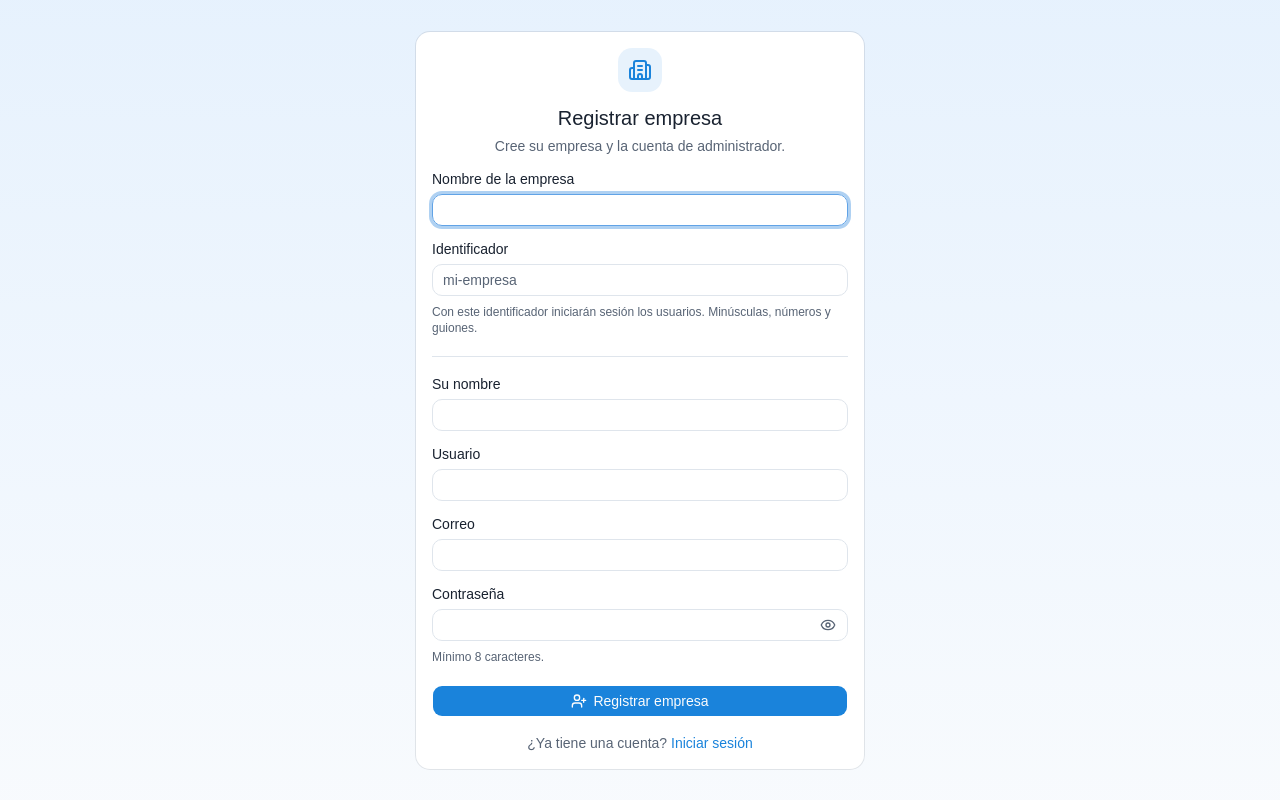
Test: RegisterCompanyPage (CU-22) › muestra el mensaje del servidor si la empresa ya existe y no inicia sesión
The width and height of the screenshot is (1280, 800).
Type "Mi Empresa Nueva" into the field labelled "Nombre de la empresa" at (640, 210), box left=432, top=194, right=848, bottom=226
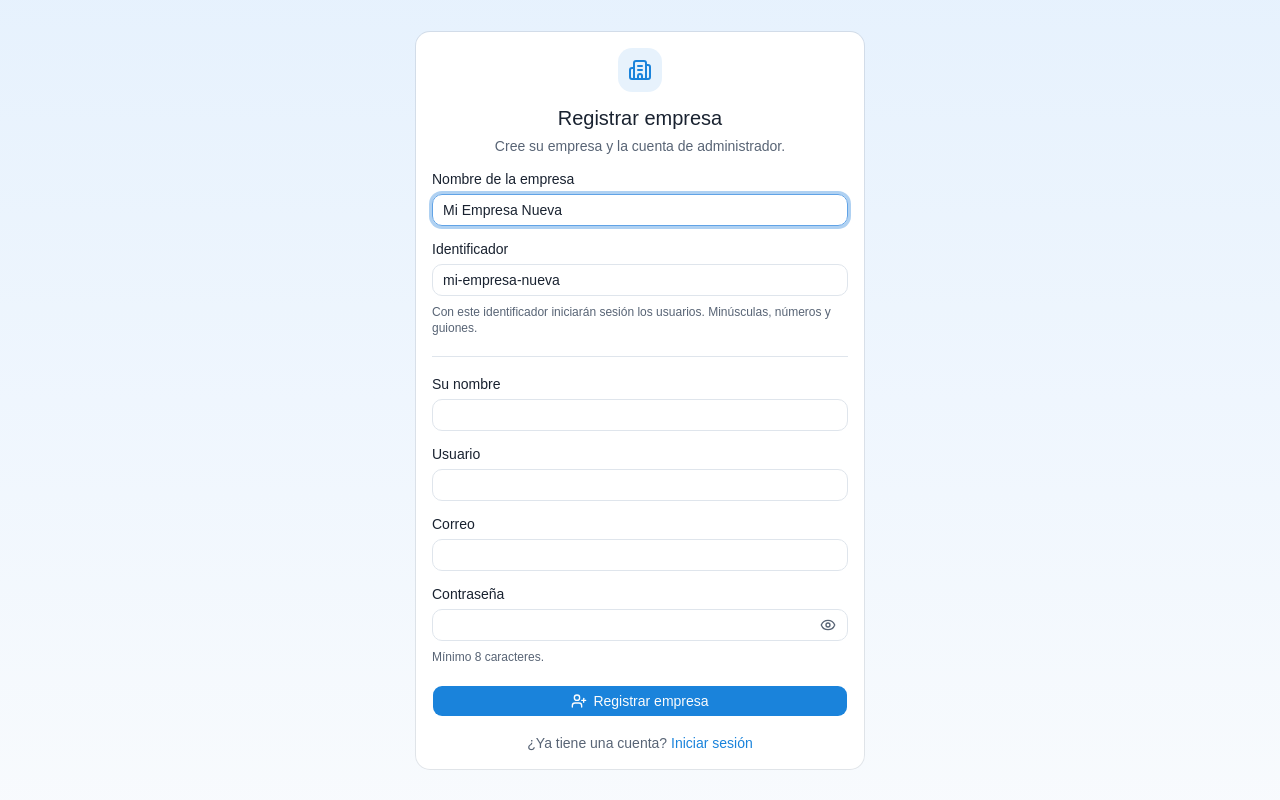
Type "jefe" into the field labelled "Usuario" at (640, 484), box left=432, top=468, right=848, bottom=500
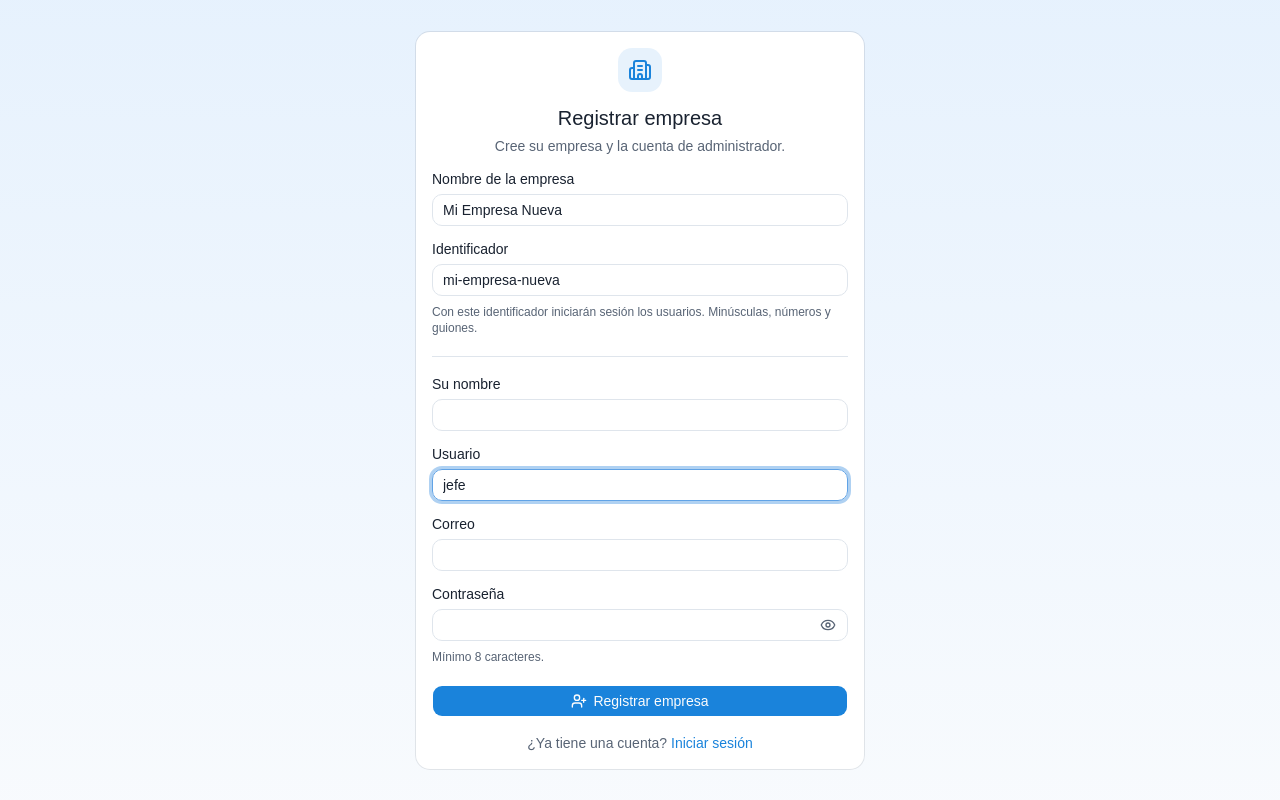
Type "jefe@nueva.test" into the field labelled "Correo" at (640, 554), box left=432, top=538, right=848, bottom=570
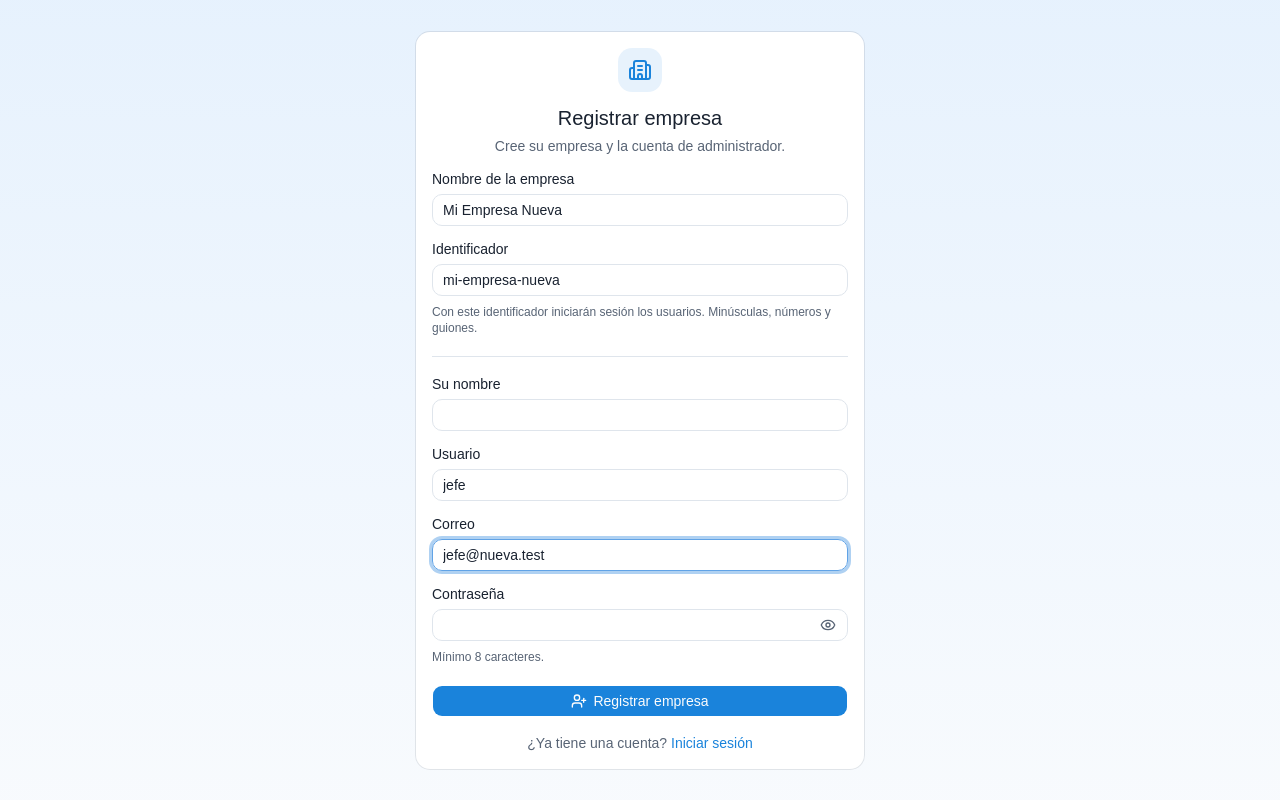
Type "Password#123" into the password field labelled "Contraseña" at (640, 624), box left=432, top=608, right=848, bottom=640
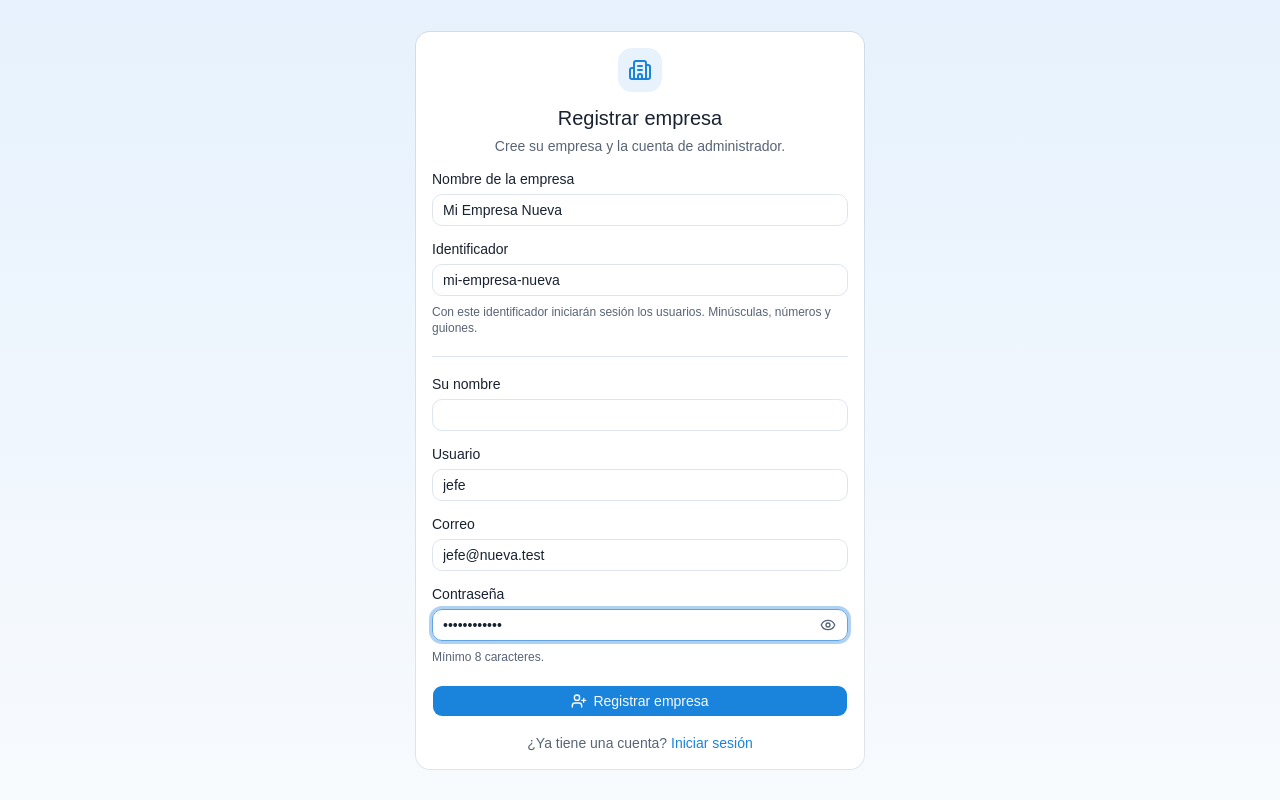
Click the button "Registrar empresa" at (640, 700), box left=432, top=684, right=848, bottom=716
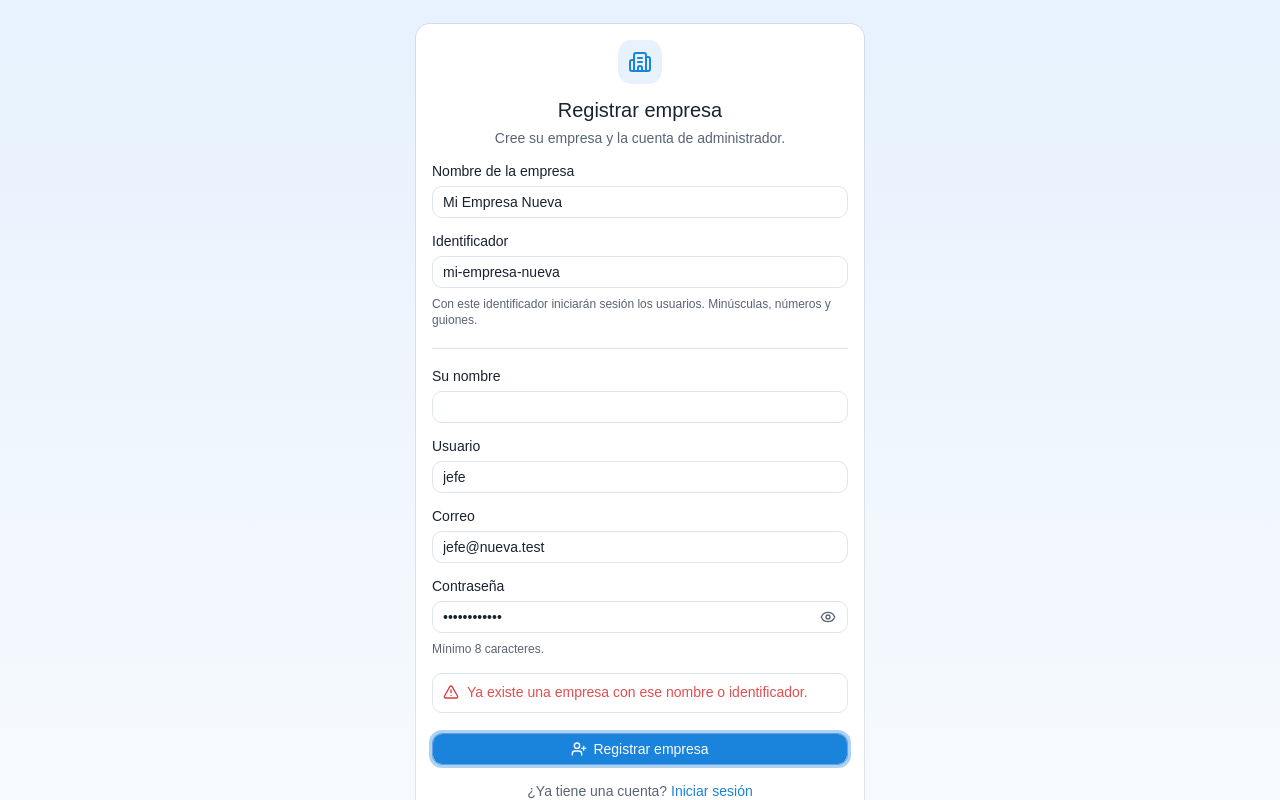
expect the message reads "Ya existe una empresa con ese nombre o identificador.": met, box left=467, top=684, right=808, bottom=700
